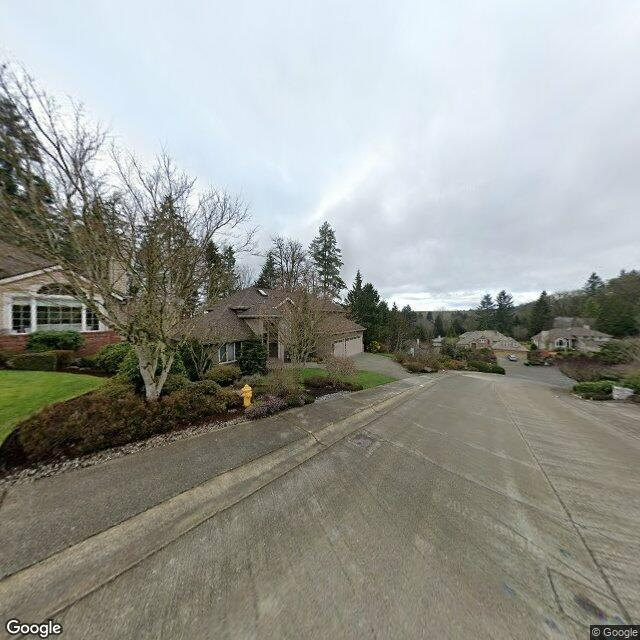hydrant: (238, 377, 255, 411)
